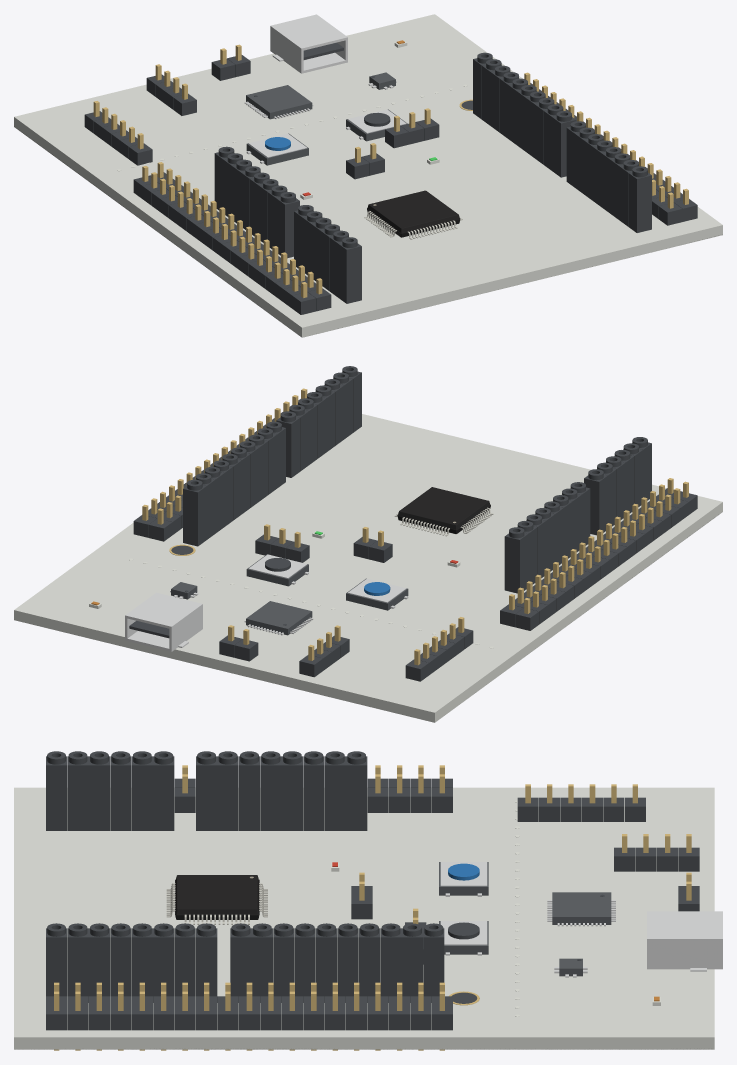
The model's file is stm32-nucleo-l476rg.glb.
3 renders of one model, top to bottom at view 1: azimuth 30°, elevation 25°; view 2: azimuth 150°, elevation 25°; view 3: azimuth 270°, elevation 25°, orthographic. The views are drawn at different scales.
Visible parts, largest first — view 1: PCB, CN7, CN5, CN9, CN6, CN8, CN1, U5, CN10, CN4, U2, CN2 (+5 smaller); view 2: PCB, CN7, CN5, CN6, CN9, CN8, CN1, U5, CN10, CN4, U2, CN2 (+5 smaller); view 3: PCB, CN10, CN5, CN6, CN9, CN8, CN1, U5, CN7, CN4, CN2, U2 (+5 smaller).
Part boxes in pixels (<box>): PCB: <box>14,14,722,337</box>; CN7: <box>133,162,331,314</box>; CN5: <box>473,52,576,177</box>; CN9: <box>566,121,651,232</box>; CN6: <box>214,146,299,258</box>; CN8: <box>294,205,361,303</box>; CN1: <box>270,14,347,73</box>; U5: <box>364,190,462,239</box>; CN10: <box>524,72,697,225</box>; CN4: <box>84,101,152,165</box>; U2: <box>244,85,313,119</box>; CN2: <box>146,64,196,115</box>; PCB: <box>14,414,722,722</box>; CN7: <box>500,478,697,630</box>; CN5: <box>183,421,285,546</box>; CN6: <box>504,482,590,593</box>; CN9: <box>276,366,361,477</box>; CN8: <box>584,437,651,535</box>; CN1: <box>125,592,202,651</box>; U5: <box>394,487,493,536</box>; CN10: <box>133,388,307,541</box>; CN4: <box>405,617,473,681</box>; U2: <box>244,601,313,635</box>; CN2: <box>299,625,349,677</box>; PCB: <box>14,787,714,1049</box>; CN10: <box>46,982,452,1050</box>; CN5: <box>230,923,444,1002</box>; CN6: <box>196,751,367,830</box>; CN9: <box>46,923,217,1002</box>; CN8: <box>46,751,174,830</box>; CN1: <box>647,911,722,971</box>; U5: <box>166,875,267,924</box>; CN7: <box>174,765,452,812</box>; CN4: <box>517,784,645,821</box>; CN2: <box>614,834,699,871</box>; U2: <box>547,892,615,926</box>.
Size of the model in its own units: 0.07 by 0.0124 by 0.084.
